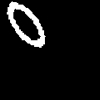chain: (7, 2, 44, 46)
